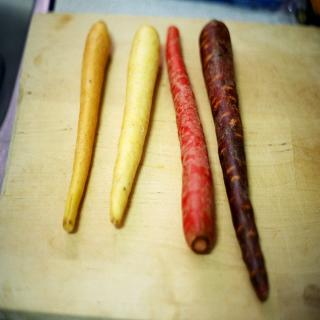Carrot: (60, 11, 114, 243), (166, 27, 212, 256)
